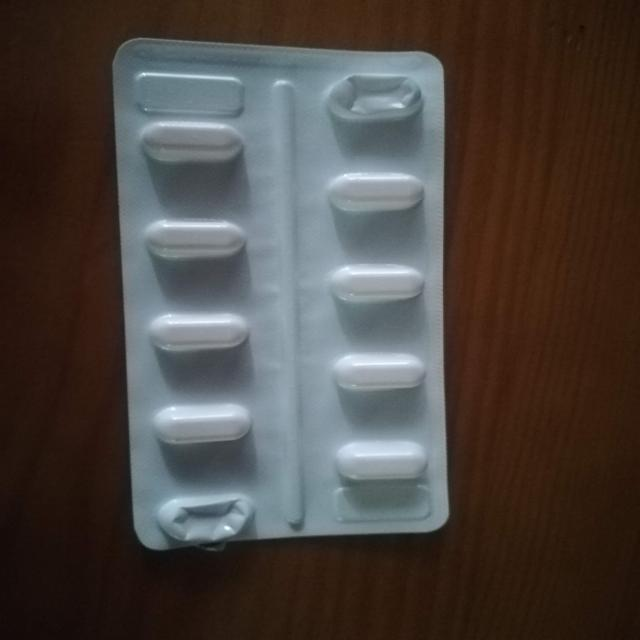Empty: (308, 63, 434, 131), (142, 482, 267, 547)
Pill: (125, 113, 266, 177), (310, 244, 438, 311), (140, 397, 271, 456), (136, 210, 258, 271), (138, 303, 256, 365), (308, 164, 432, 221), (316, 347, 441, 400), (329, 434, 434, 490)
